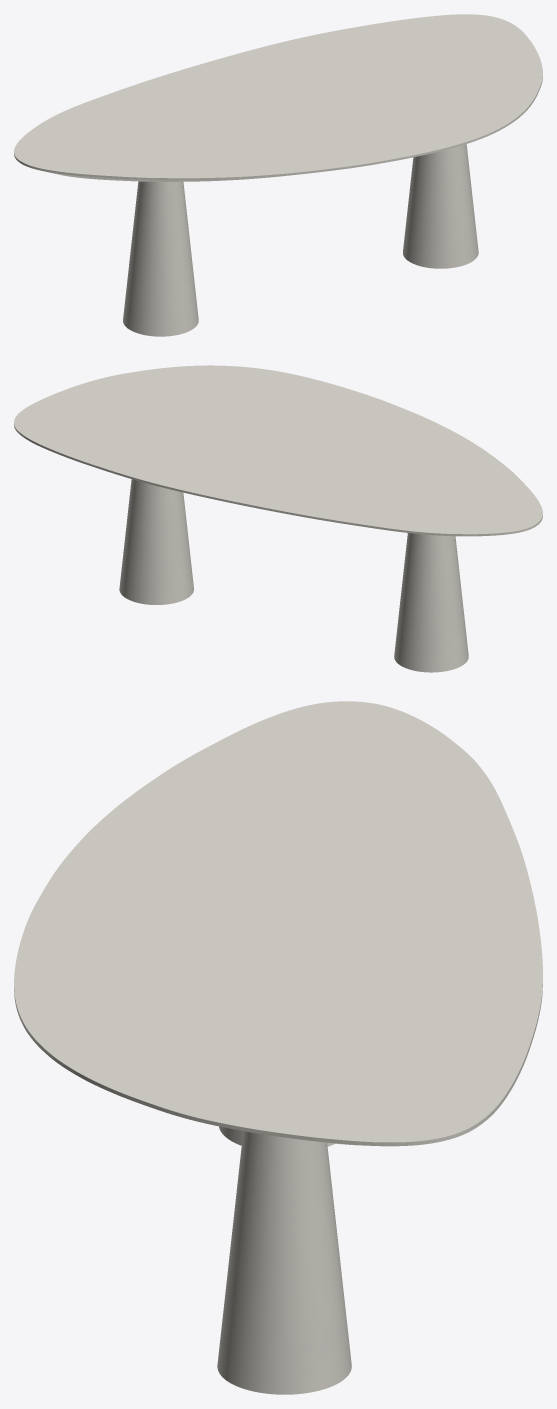
File: pale_pebbletop_facet_pebble.glb
The picture shows the model from 3 angles, top to bottom: view 1: azimuth 30°, elevation 25°; view 2: azimuth 150°, elevation 25°; view 3: azimuth 270°, elevation 25°; orthographic projection. The views are drawn at different scales.
Parts seen in each view (by area): view 1: facet_pebbletop, pebble; view 2: facet_pebbletop, pebble; view 3: facet_pebbletop, pebble.
Part boxes in pixels (x1=…): facet_pebbletop: x1=14, y1=14, x2=542, y2=181; pebble: x1=123, y1=144, x2=478, y2=336; facet_pebbletop: x1=14, y1=365, x2=542, y2=536; pebble: x1=119, y1=479, x2=468, y2=672; facet_pebbletop: x1=14, y1=701, x2=542, y2=1146; pebble: x1=217, y1=1126, x2=351, y2=1394.
Bounding box in the file's own units: 7.5 × 2.5 × 3.8.
1 material, 1 textured.
